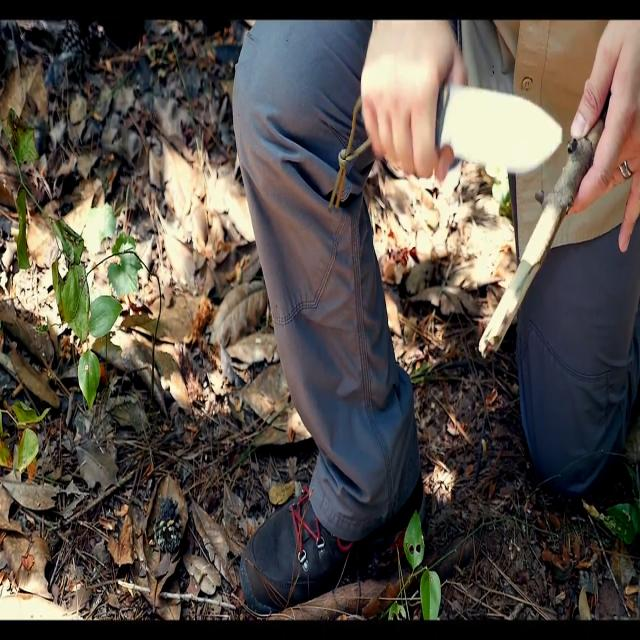knife: (433, 79, 567, 178)
